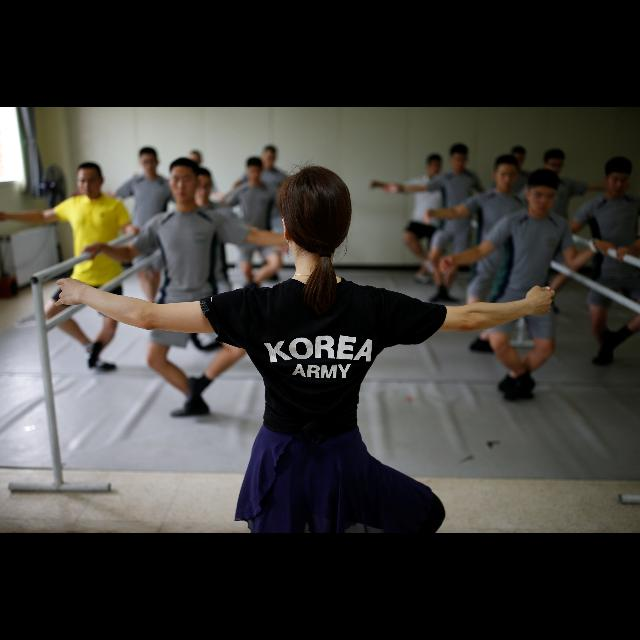head: (278, 170, 352, 252), (522, 168, 562, 216), (168, 158, 202, 204), (604, 157, 632, 197), (76, 162, 104, 200), (187, 168, 213, 205), (492, 156, 520, 190), (543, 148, 565, 176), (449, 144, 469, 174), (140, 148, 158, 172), (260, 145, 278, 169), (245, 158, 263, 182), (509, 146, 528, 168), (426, 154, 442, 178)
person: (78, 155, 300, 421), (434, 164, 620, 406), (418, 151, 572, 359), (130, 162, 294, 356), (0, 159, 140, 377), (378, 140, 488, 306), (107, 144, 195, 322), (508, 145, 608, 291), (369, 151, 469, 289), (217, 154, 297, 300), (230, 142, 300, 286), (503, 142, 562, 284)
